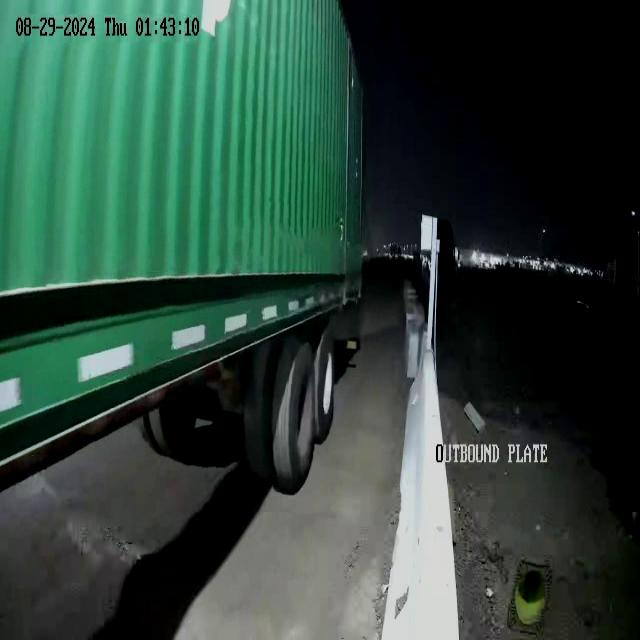CONTAINER: (0, 8, 368, 471)
